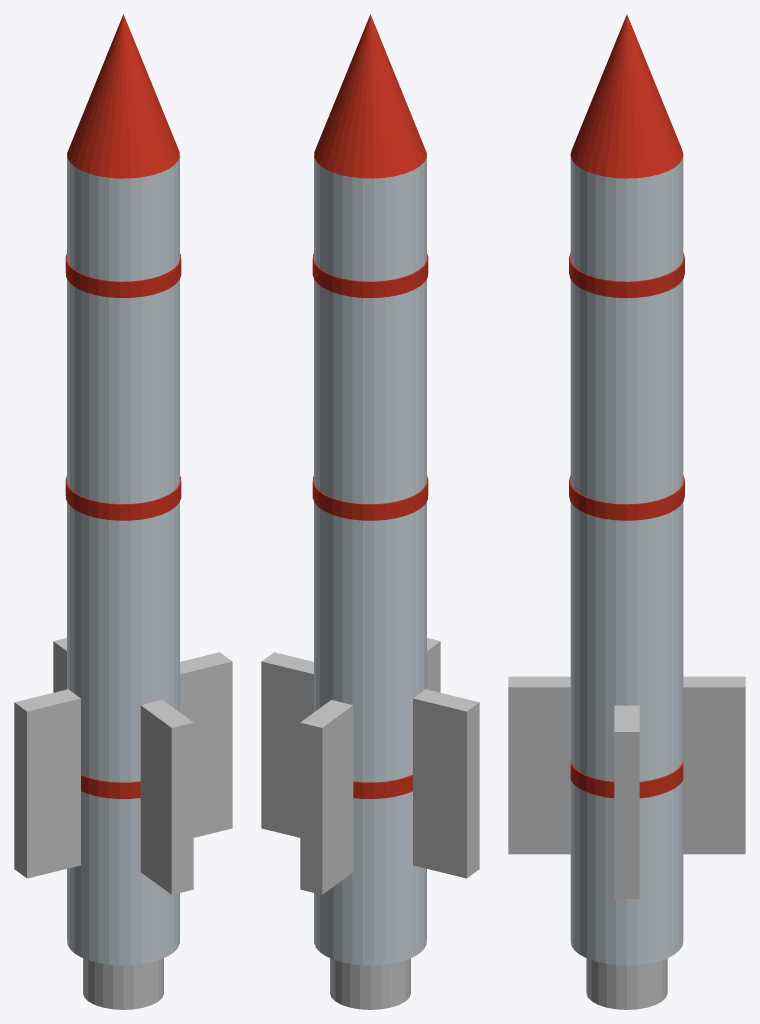
The model's file is interceptor.obj.
The picture shows the model from 3 angles, left to right: view 1: azimuth 30°, elevation 25°; view 2: azimuth 150°, elevation 25°; view 3: azimuth 270°, elevation 25°; orthographic projection.
Visible parts, largest first — view 1: interceptor; view 2: interceptor; view 3: interceptor.
Part boxes in pixels (<box>): interceptor: <box>14,14,232,1009</box>; interceptor: <box>261,14,479,1009</box>; interceptor: <box>508,14,745,1009</box>.
Bounding box in the file's own units: 0.336 × 1.53 × 0.336.
